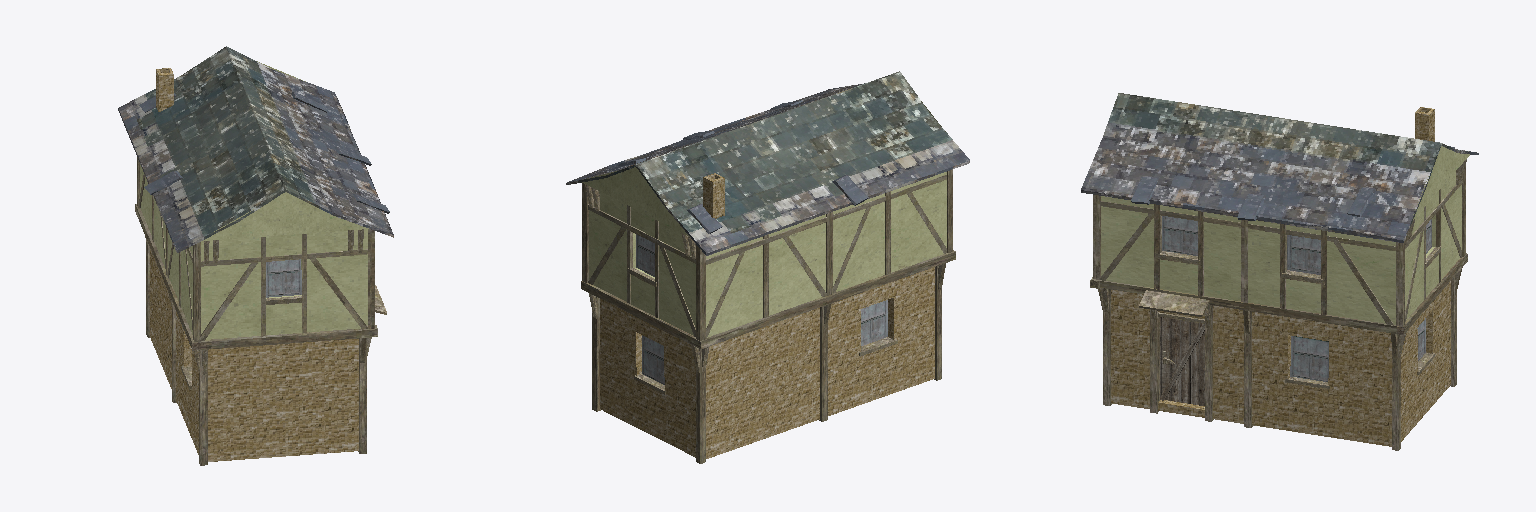
3 renders of one model, left to right at view 1: azimuth 30°, elevation 25°; view 2: azimuth 150°, elevation 25°; view 3: azimuth 270°, elevation 25°, orthographic.
Visible parts, largest first — view 1: Cube.006_Cube.007; view 2: Cube.006_Cube.007; view 3: Cube.006_Cube.007.
Boxes of the visible parts, x1,y1,x2,y2 form: Cube.006_Cube.007: [118, 46, 393, 465]; Cube.006_Cube.007: [566, 71, 969, 463]; Cube.006_Cube.007: [1081, 93, 1478, 450].
Bounding box in the file's own units: 15.85 × 14.89 × 19.44.
1 materials, 1 textured.